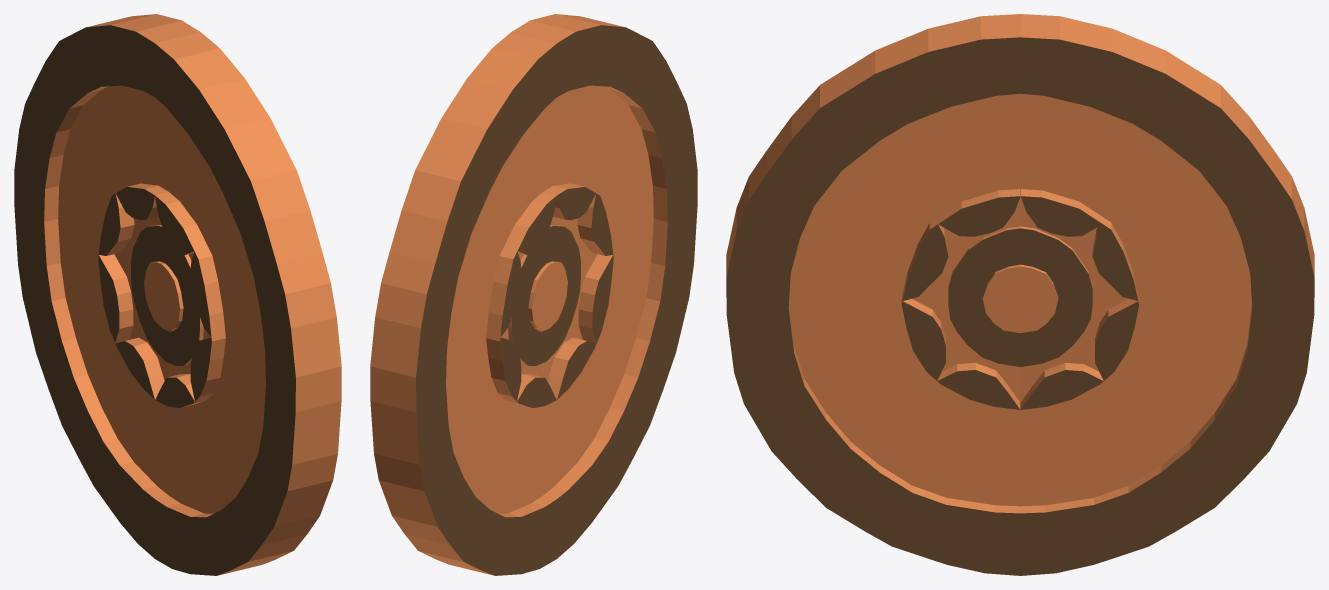
File: Mirror.fbx
The picture shows the model from 3 angles, left to right: view 1: azimuth 30°, elevation 25°; view 2: azimuth 150°, elevation 25°; view 3: azimuth 270°, elevation 25°; orthographic projection. The views are drawn at different scales.
Visible parts, largest first — view 1: Cube; view 2: Cube; view 3: Cube.
Boxes of the visible parts, bbox=[...] form: Cube: bbox=[14, 14, 341, 575]; Cube: bbox=[370, 14, 697, 575]; Cube: bbox=[726, 14, 1314, 575].
Bounding box in the file's own units: 1.72 × 18.45 × 18.27.
